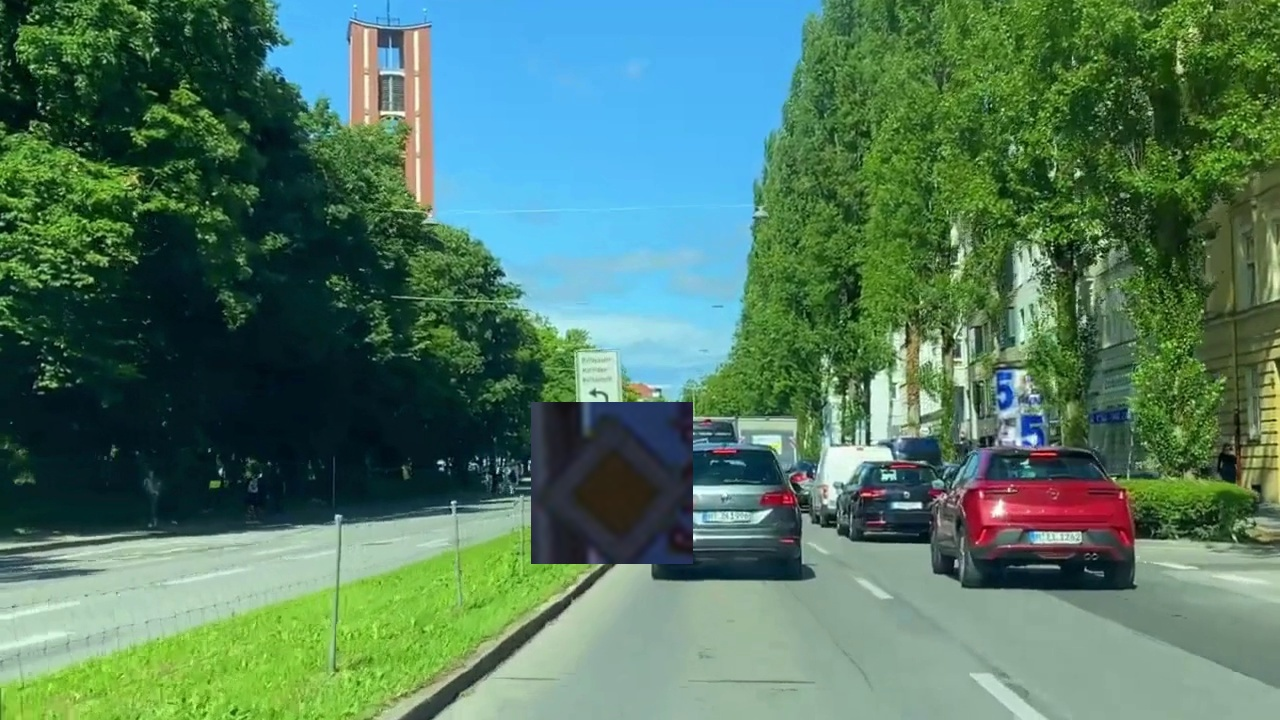Priority road: (531, 402, 693, 564)
